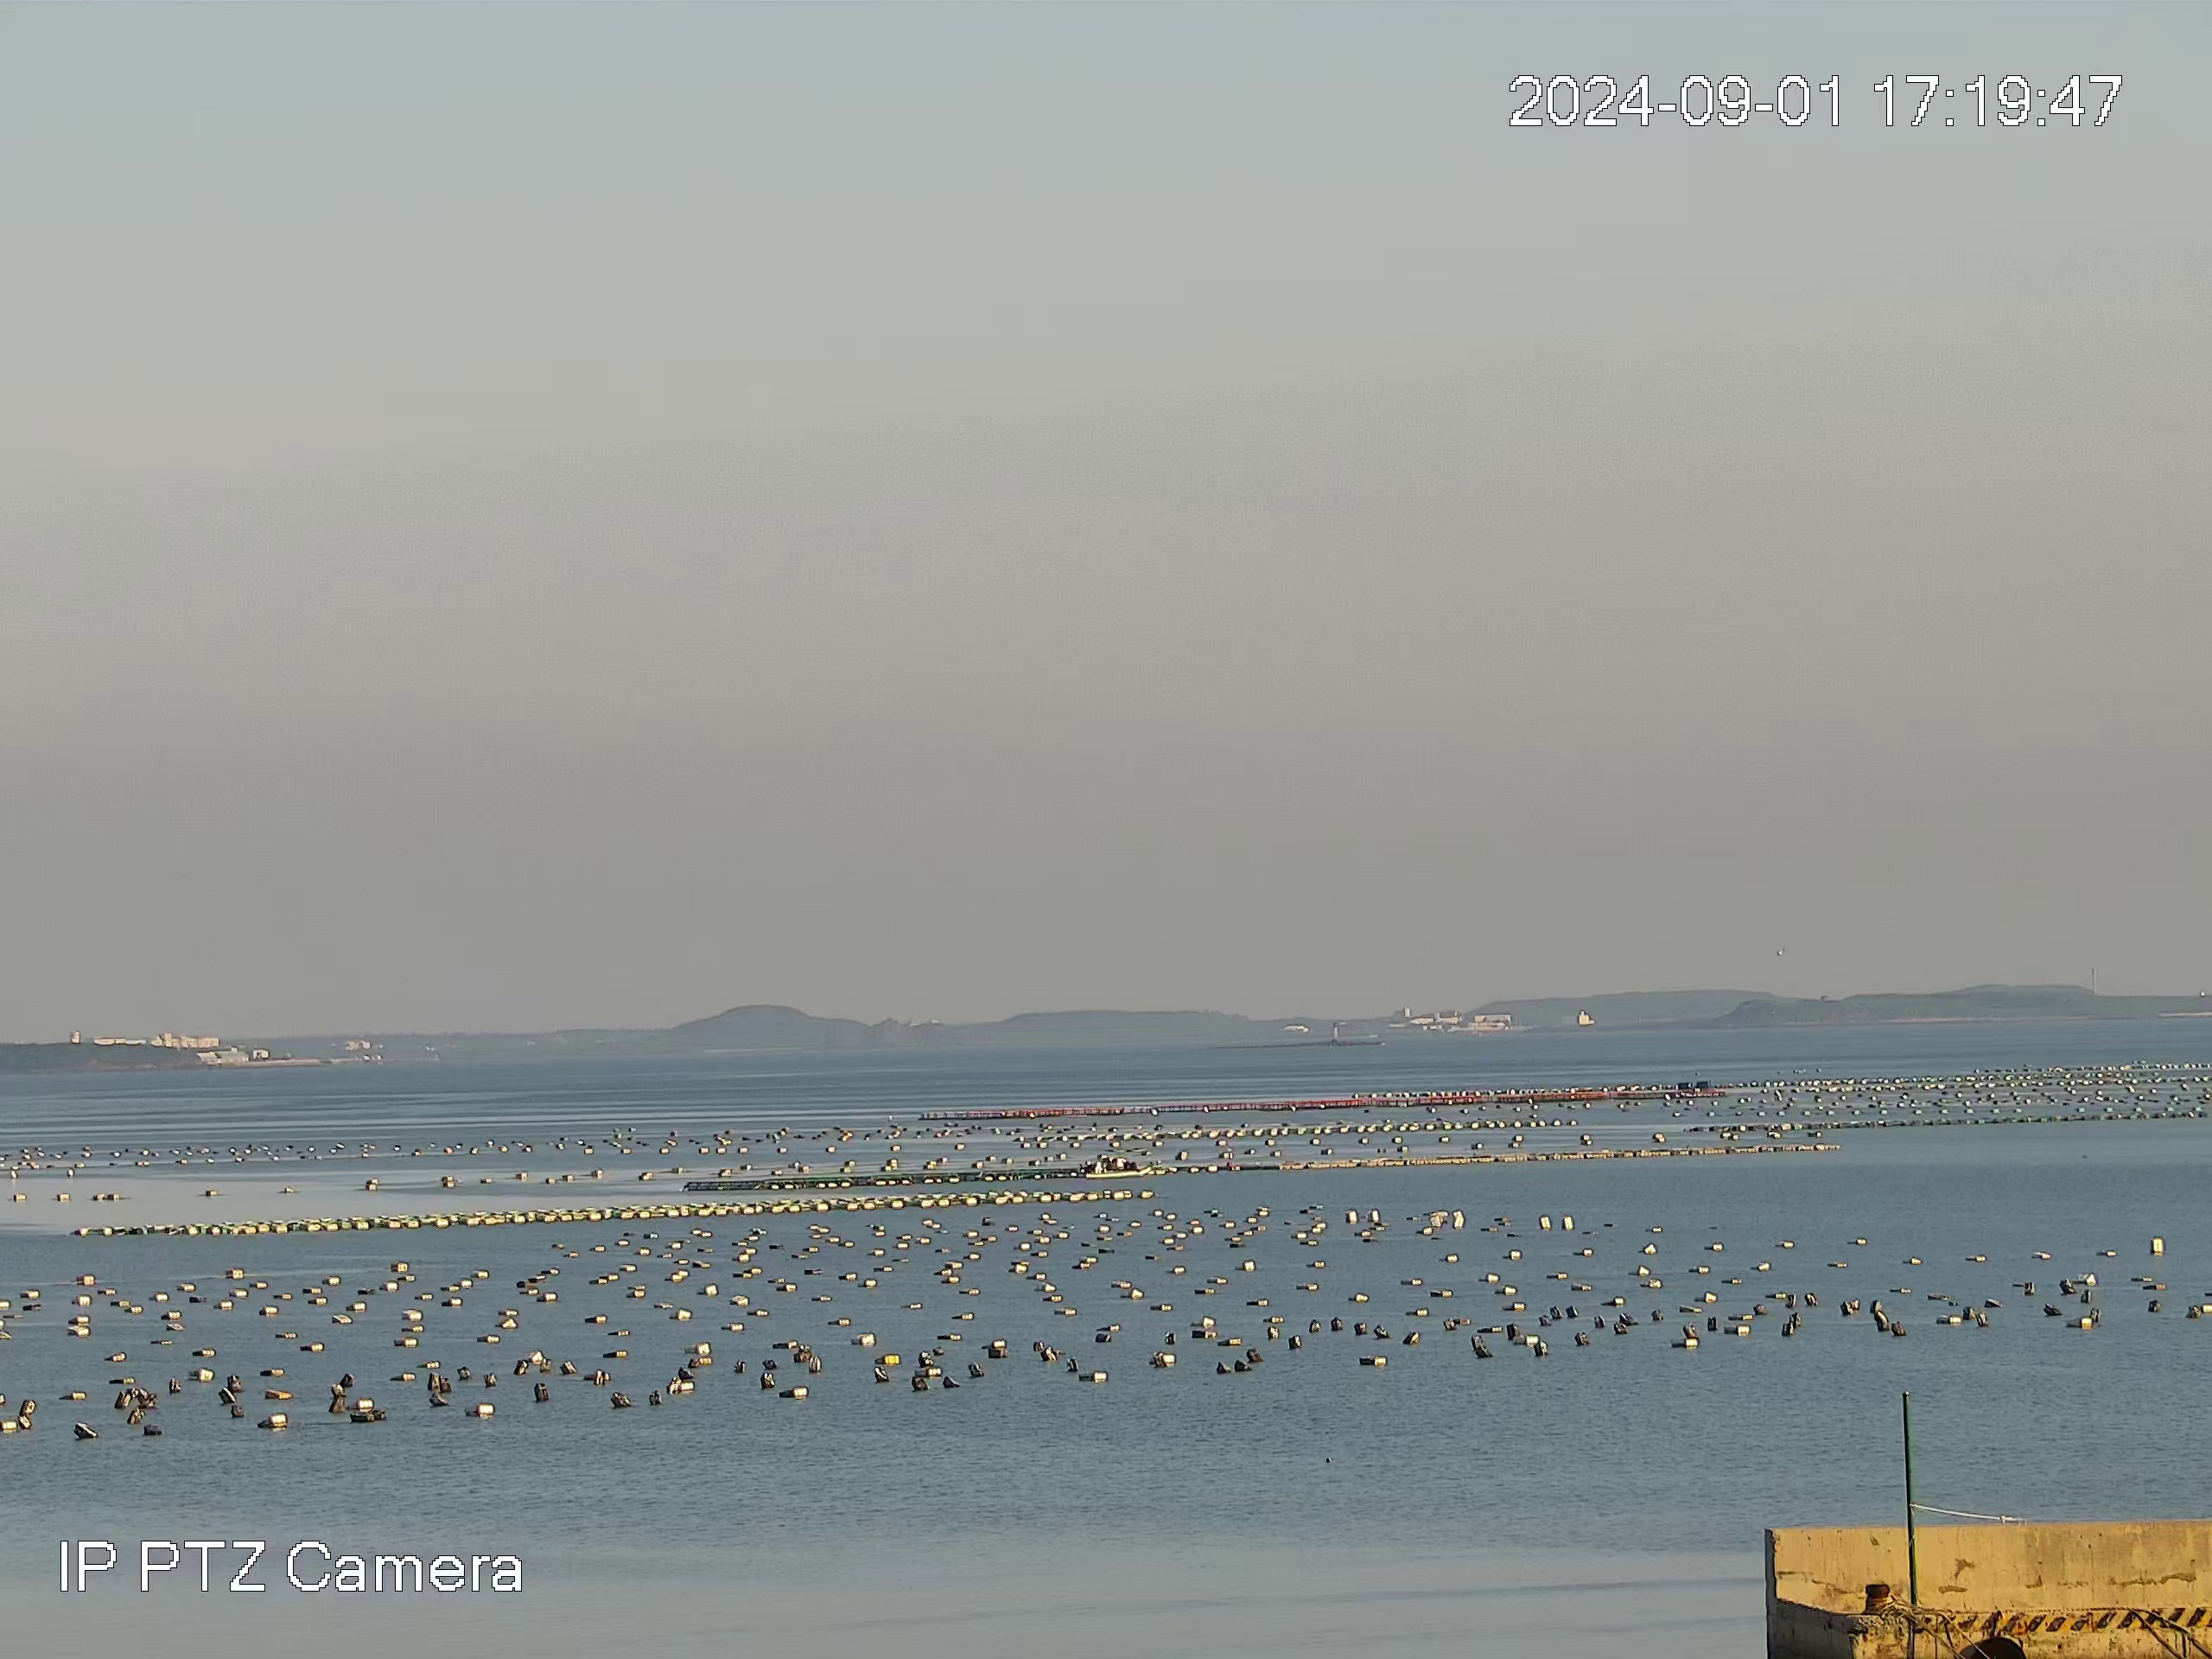boat: (1087, 1155, 1155, 1180)
